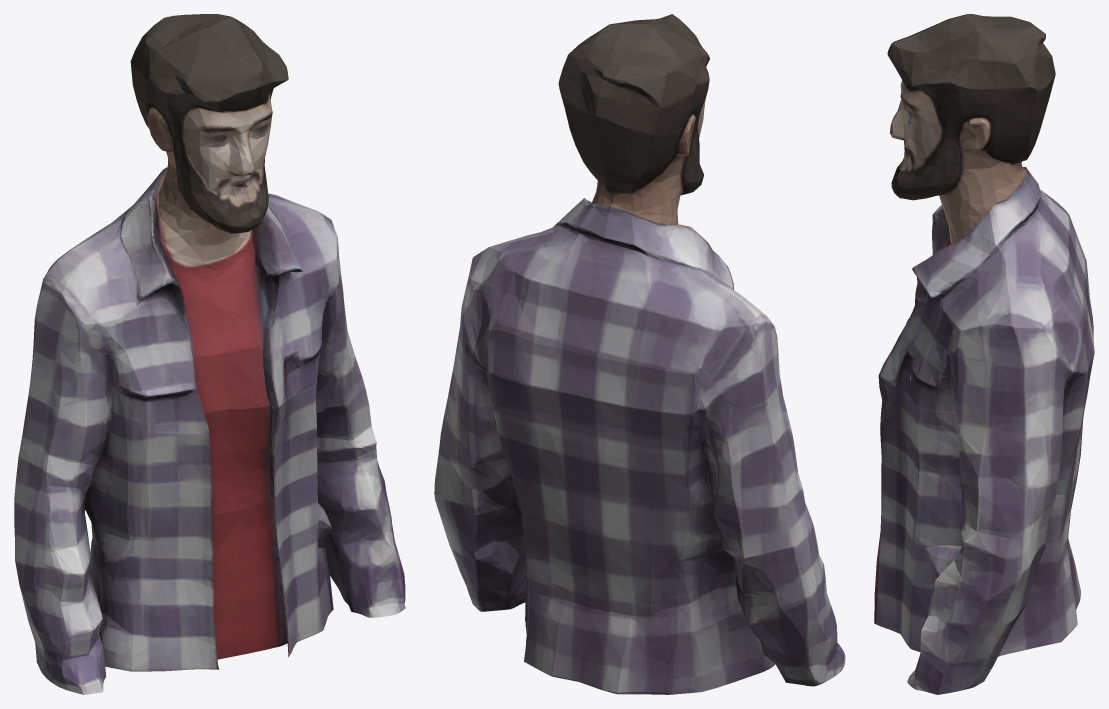
File: _render.glb
3 views of the same model, side by side, from view 1: azimuth 30°, elevation 25°; view 2: azimuth 150°, elevation 25°; view 3: azimuth 270°, elevation 25° (orthographic). The views are drawn at different scales.
Visible parts, largest first — view 1: geometry_0; view 2: geometry_0; view 3: geometry_0.
Part boxes in pixels (box(x1,y1,x2,y2)): geometry_0: box(14, 14, 405, 694); geometry_0: box(434, 14, 845, 694); geometry_0: box(874, 14, 1094, 694).
Bounding box in the file's own units: 0.5218 × 0.8284 × 0.2796.
1 material, 1 textured.
